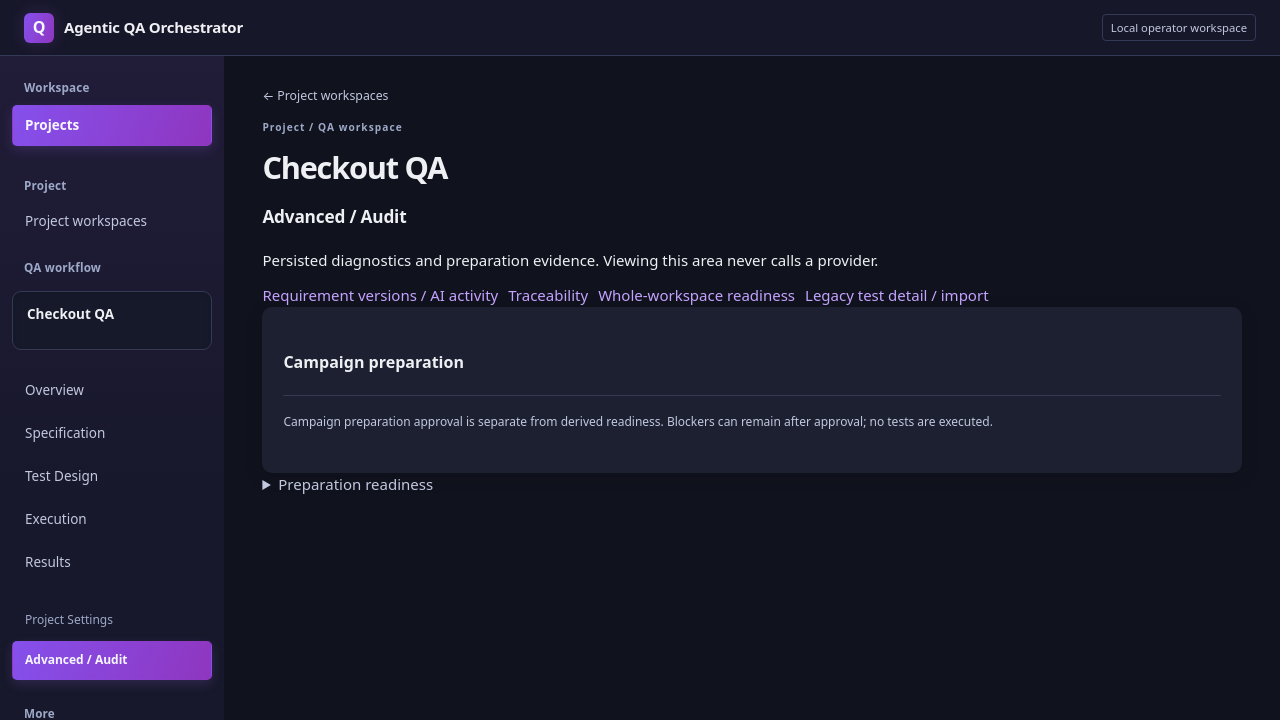
Campaign routes and readiness › separates preparation Approved from Not ready and uses full aggregates
The width and height of the screenshot is (1280, 720).
Check: the heading "Advanced / Audit" is shown, box [262, 204, 406, 231]
Click the heading "Preparation readiness" at (348, 484), box [262, 472, 433, 496]
(page scrolled)
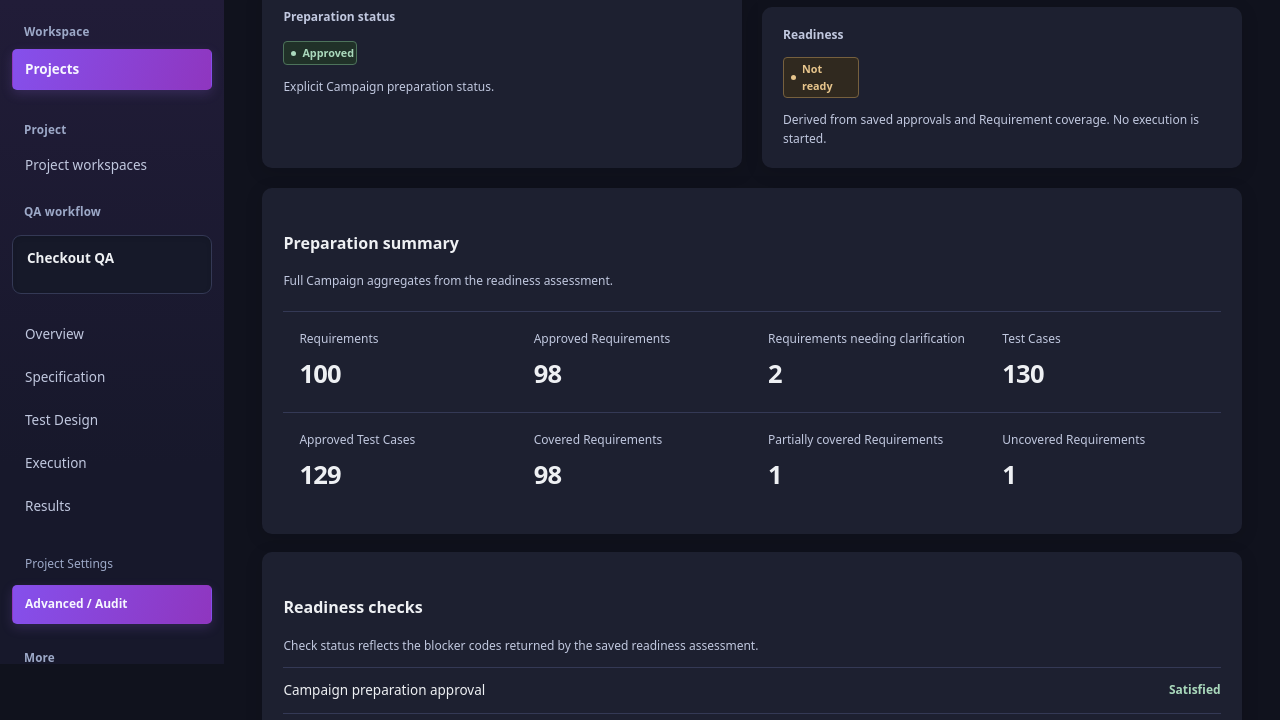
Check: the text "Not ready" is shown, box [783, 56, 858, 98]
Check: the text "Approved" is shown, box [283, 41, 357, 65]
